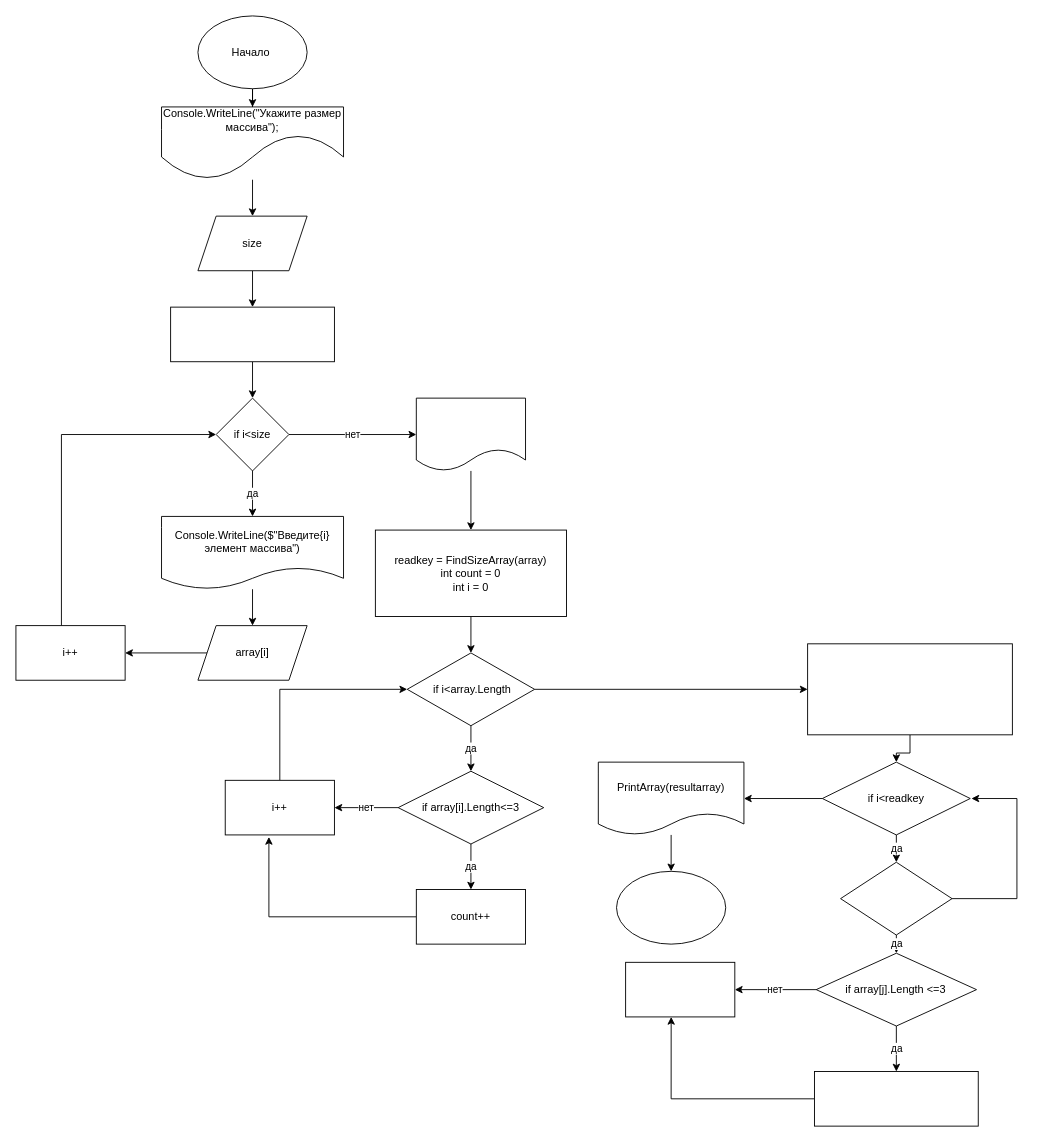
Image size: 1040x1142. Some labels were removed from this diagram. Here are the shapes that lost their labels. From the top down, the box of each, then its label:
(170, 306, 334, 362): array = GenerateArray(size) int i = 0
(415, 397, 526, 471): PrintArray(array)
(807, 643, 1012, 735): resultarray = Result(array, readkey) int i = 0 int j = 0
(616, 870, 726, 944): конец
(840, 861, 952, 935): if j<array.Length
(625, 961, 735, 1017): j++
(814, 1071, 978, 1126): resultarray[i] = array[j]; i++
